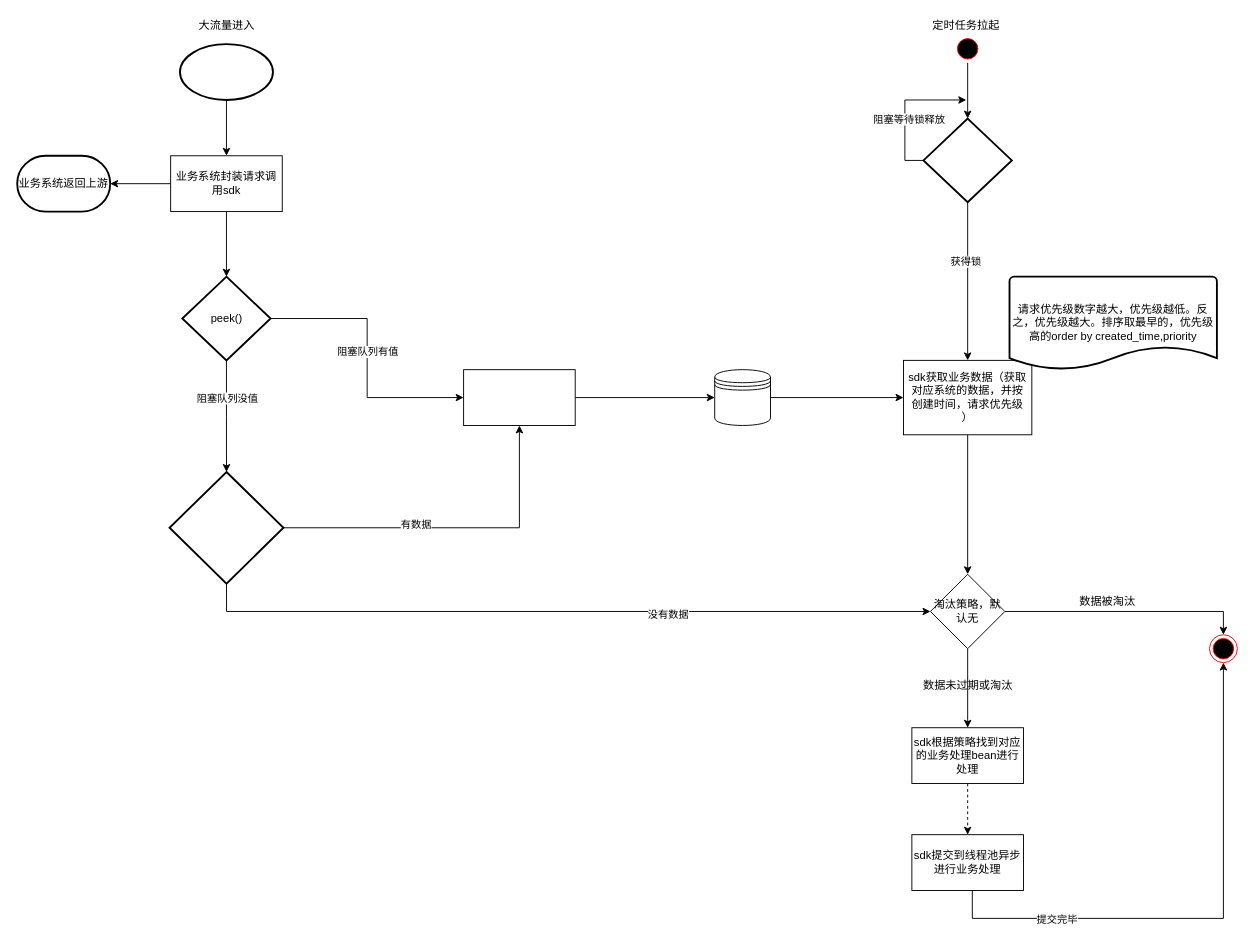
Image size: 1254x942. Some labels were removed from this diagram. The shapes that lost their labels are listed below. From the top down, each one's centre as x and y in pixels, then its label:
the point at 226,71: 业务系统接收上游请求
the point at 967,160: 获取任务锁
the point at 519,397: sdk序列化请求，处理bean以及系统等信息
the point at 226,527: 查询db是否有当前子系统的数据
